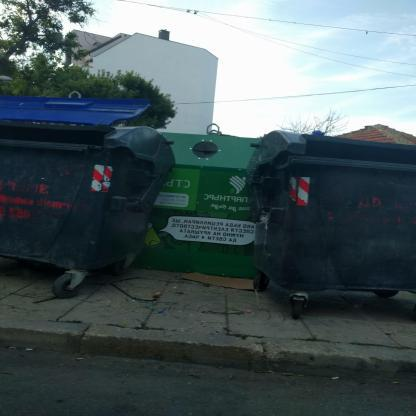karton: (181, 273, 255, 291)
